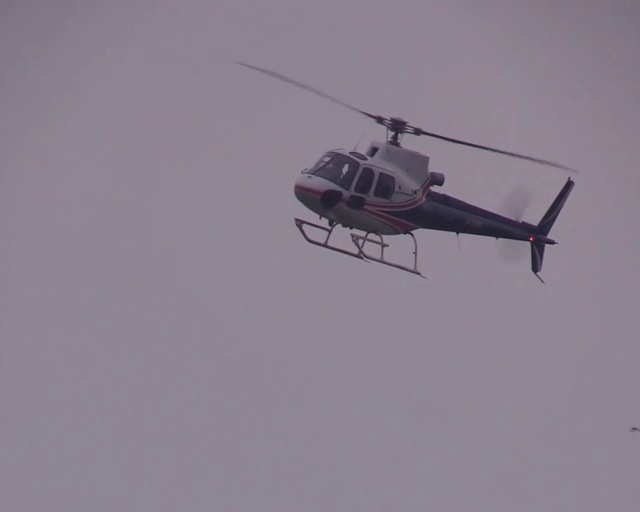HELICOPTER: (237, 55, 582, 284)
